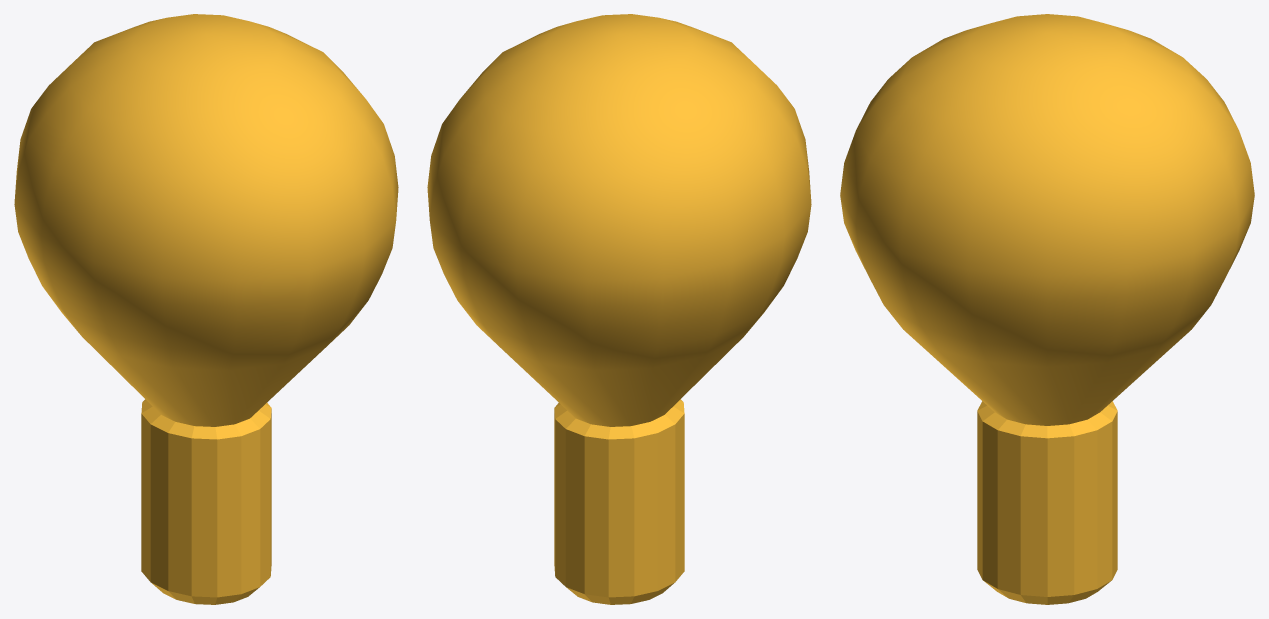
File: fanguangdeng.FBX
3 views of the same model, side by side, from view 1: azimuth 30°, elevation 25°; view 2: azimuth 150°, elevation 25°; view 3: azimuth 270°, elevation 25° (orthographic).
Parts seen in each view (by area): view 1: body; view 2: body; view 3: body.
Boxes of the visible parts, x1=… form: body: x1=14, y1=14, x2=398, y2=604; body: x1=427, y1=14, x2=811, y2=604; body: x1=840, y1=14, x2=1254, y2=604.
Size of the model in its own units: 3.39 by 5.38 by 3.66.
1 material, 1 textured.
